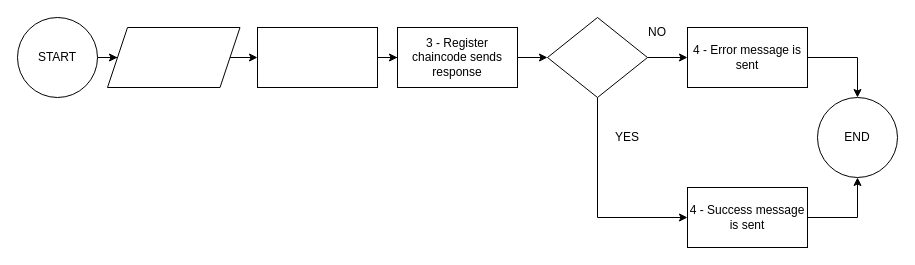
This 915x265 diagram has some shape labels left out. Here are the shapes that lost their labels. From the top down, the box of each, then its label:
(106, 26, 240, 88): 1 - Author agent sends petition with RegisterPetition
(256, 26, 378, 88): 2 - Register agent sends petition to register chaincode
(546, 16, 648, 98): Is response successful?
